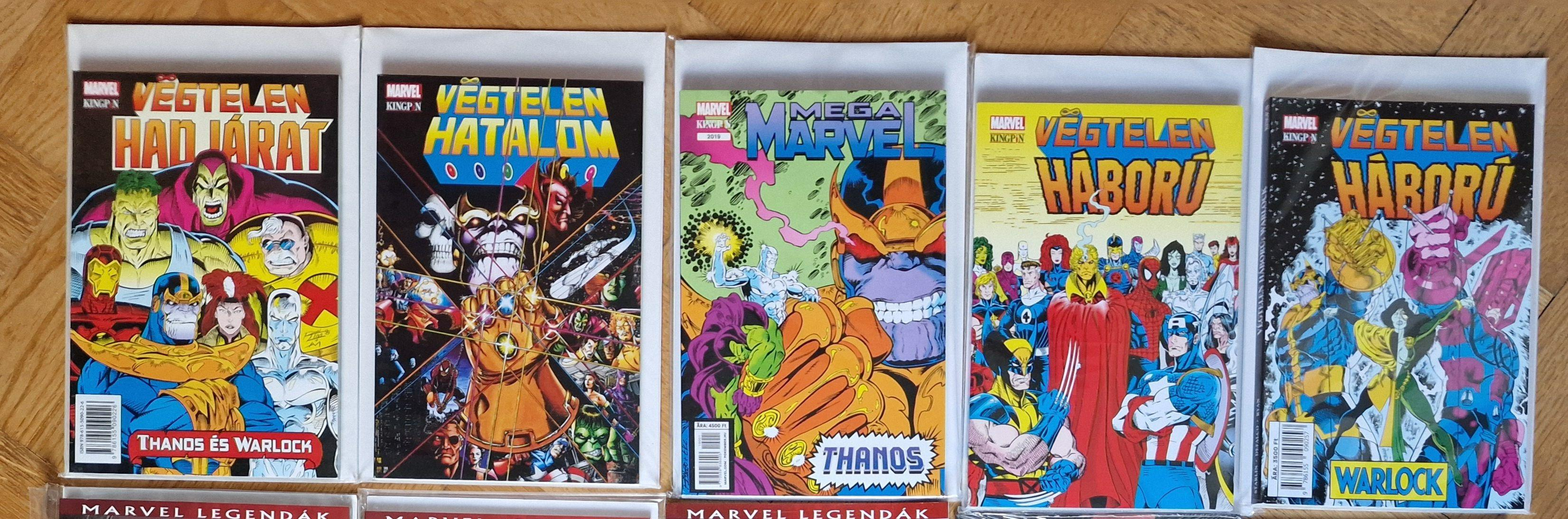comic: (364, 75, 662, 483), (1250, 97, 1541, 511), (964, 102, 1246, 511), (676, 90, 952, 496), (68, 71, 341, 477)
